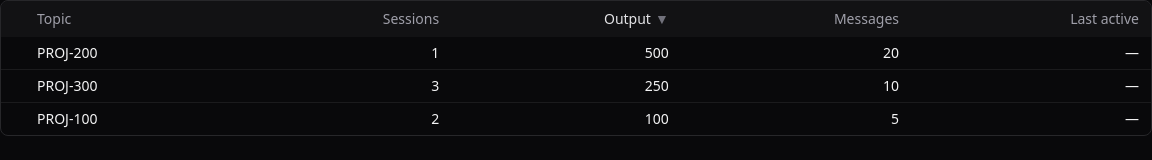
UsageList › flips sort direction when the active header is clicked again
Click the column heading "Output". click: point(627, 18)
box: x1=451 y1=1 x2=681 y2=37
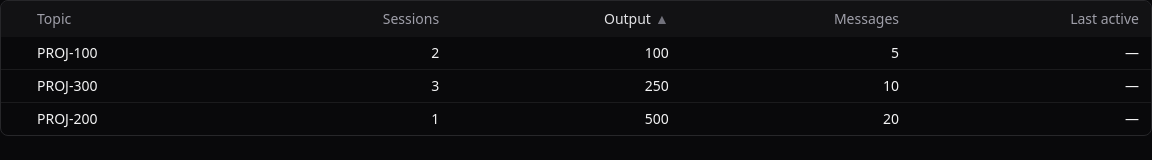
Result: the row "PROJ-100 2 100 5 —" is shown at x1=1 y1=37 x2=1151 y2=70
Result: the row "PROJ-200 1 500 20 —" is shown at x1=1 y1=102 x2=1151 y2=135
